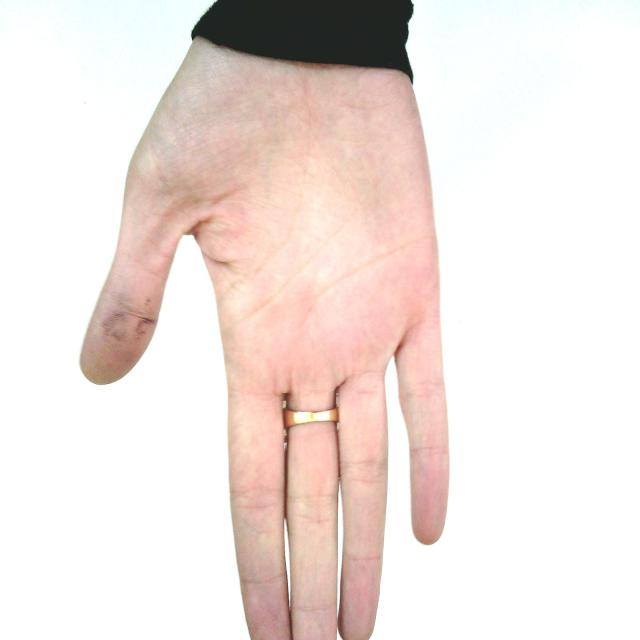hand: (87, 51, 473, 635)
